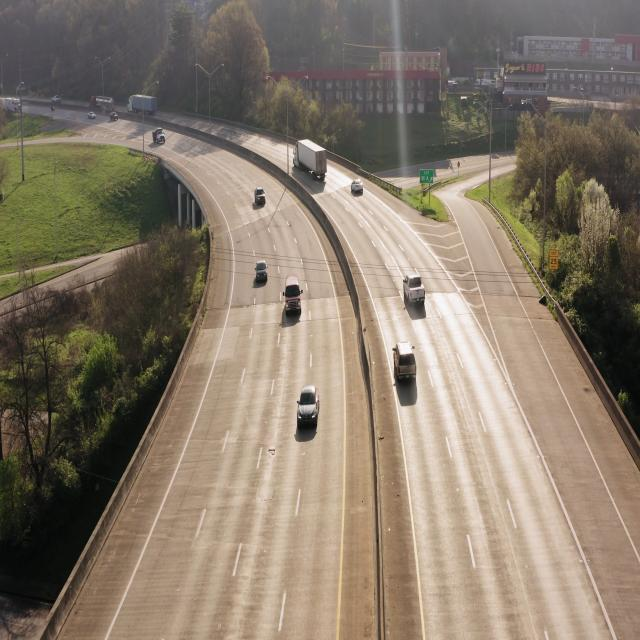Car: (290, 135, 328, 184), (392, 339, 419, 389), (296, 383, 322, 433), (401, 270, 428, 311), (284, 277, 303, 320), (253, 261, 270, 289), (253, 185, 266, 210), (350, 175, 364, 198)
